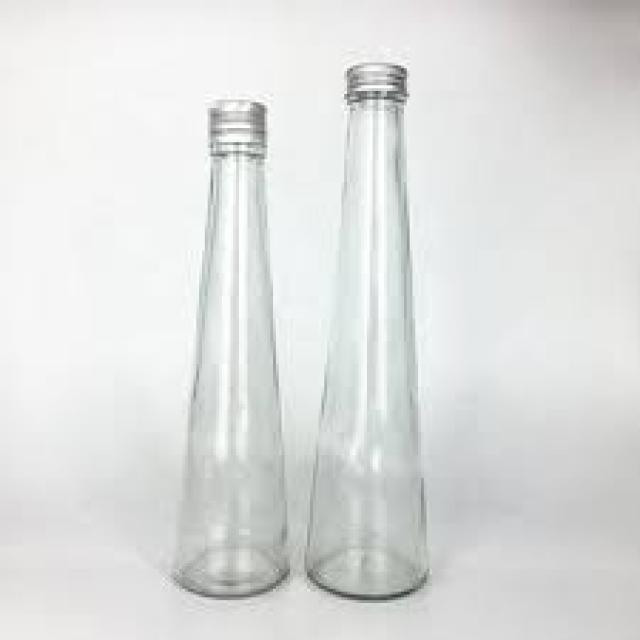glass: (301, 91, 424, 597), (171, 145, 287, 595)
metal: (205, 94, 259, 151), (342, 60, 399, 94)
